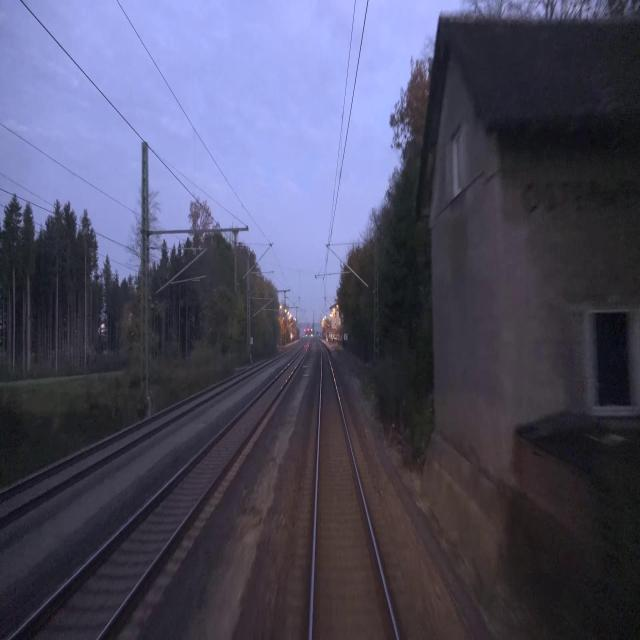rail-track: (14, 354, 301, 639), (0, 382, 227, 513), (313, 348, 394, 639)
